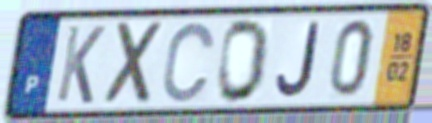0: (327, 16, 377, 102)
C: (160, 19, 218, 106)
J: (274, 20, 323, 100)
K: (53, 23, 107, 107)
O: (215, 16, 273, 107)
X: (102, 18, 168, 110)
